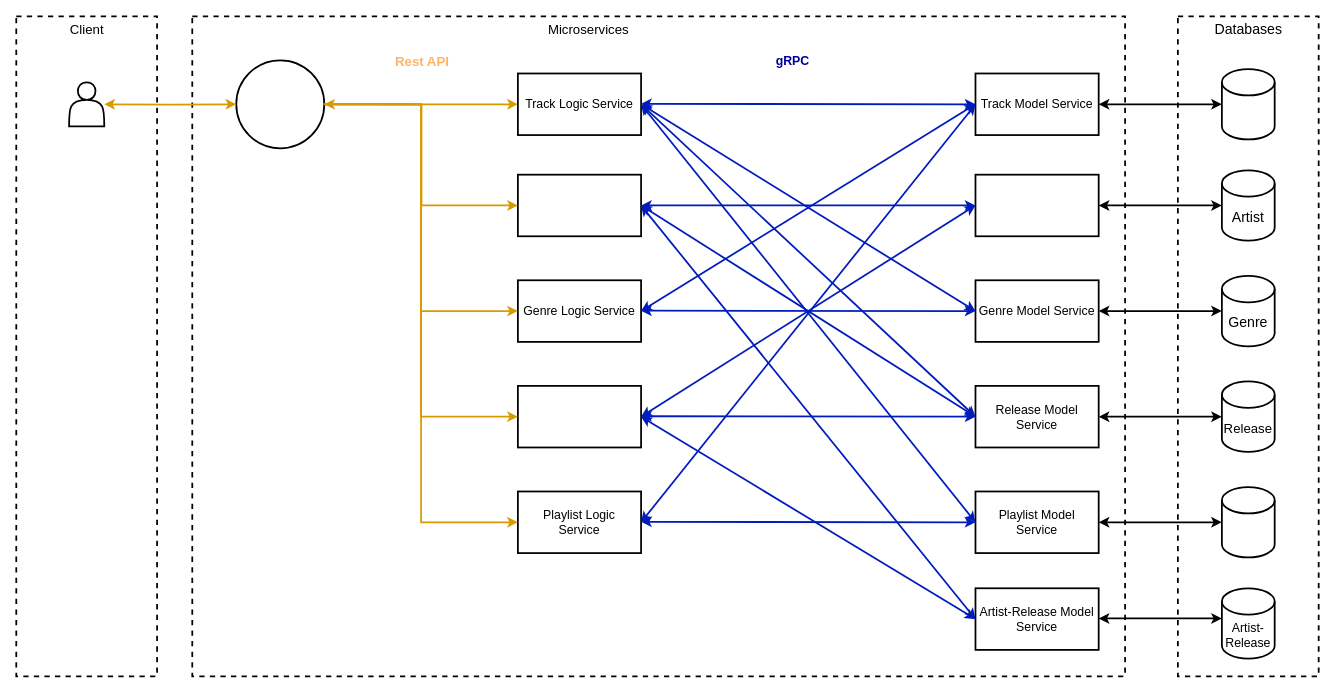
This 1334x692 diagram has some shape labels left out. Here are the shapes that lost their labels. From the top down, the centre of each, then its label:
At [280,104]: "API Gateway".
At [1248,104]: "Tracks".
At [579,205]: "Artist Logic Service".
At [1036,205]: "Artist Model Service".
At [579,416]: "Release Logic Service".
At [1248,522]: "Playlist".
